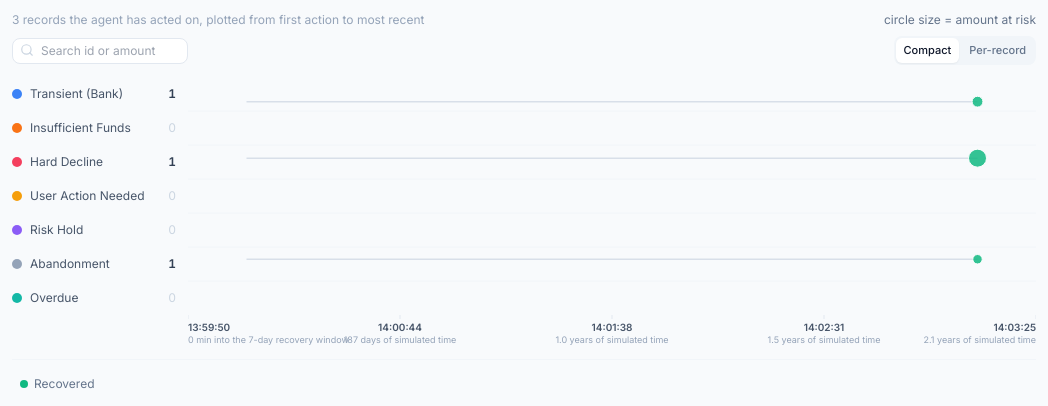
it: HistoryTimeline: search (Unit AP) › shows an honest empty state naming the query when nothing matches, and clears via the chip
In the field with test id "timeline-search-input": x=100, y=51 [12, 38, 188, 64], type "zzzz"
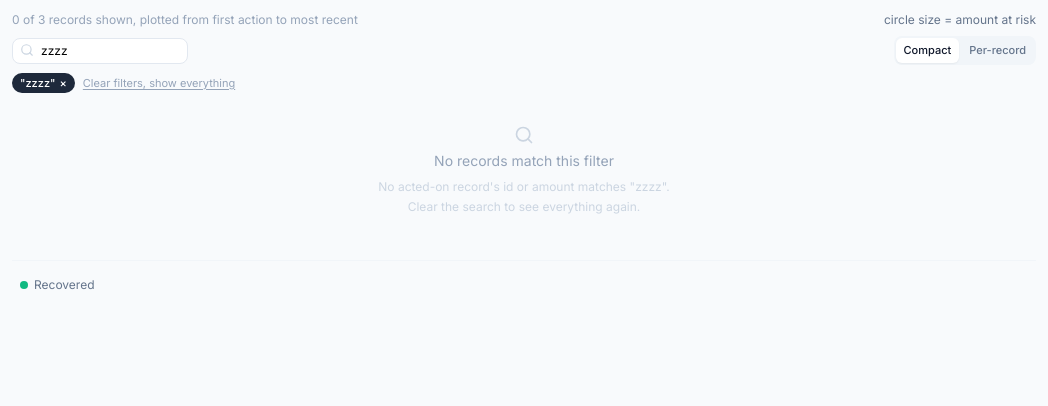
Now the text "No records match this filter" is shown, box [434, 151, 614, 171]
Now the text "matches \"zzzz\"" is shown, box [378, 179, 670, 214]
Click the button with test id "active-filter-search": x=43, y=83 [12, 72, 75, 93]
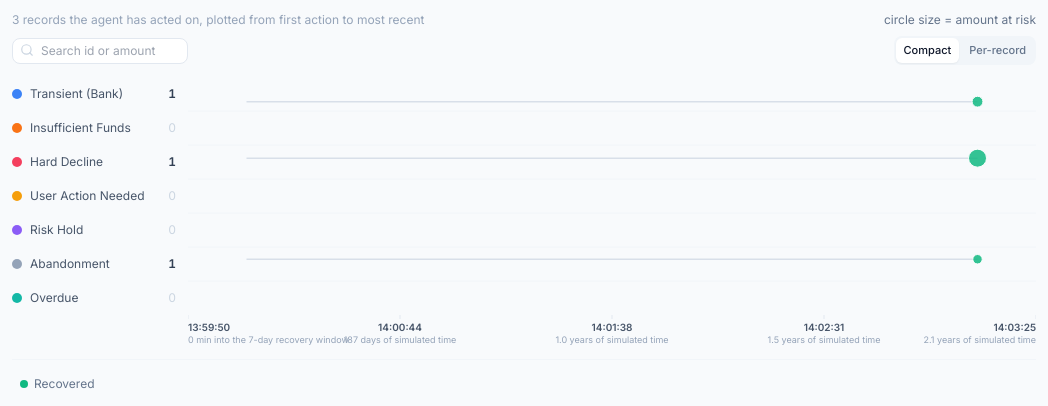
Now the field with test id "timeline-search-input" is empty, box [12, 38, 188, 64]
